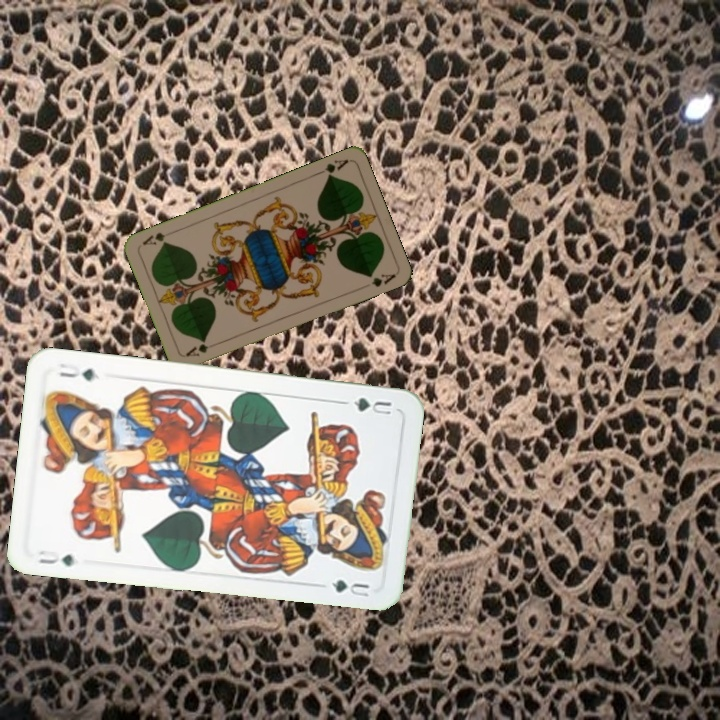GA: (312, 155, 351, 181), (182, 339, 221, 359)
GU: (349, 393, 394, 418), (33, 546, 77, 569)
